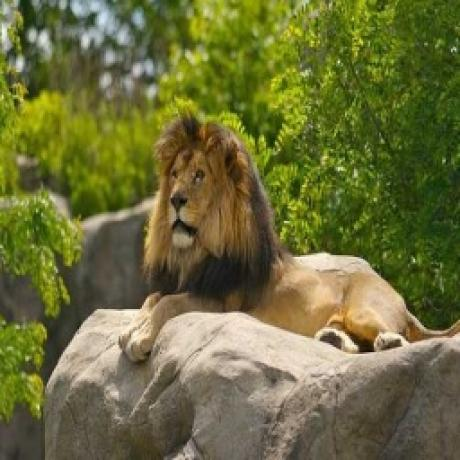Lion: (120, 100, 460, 366)
